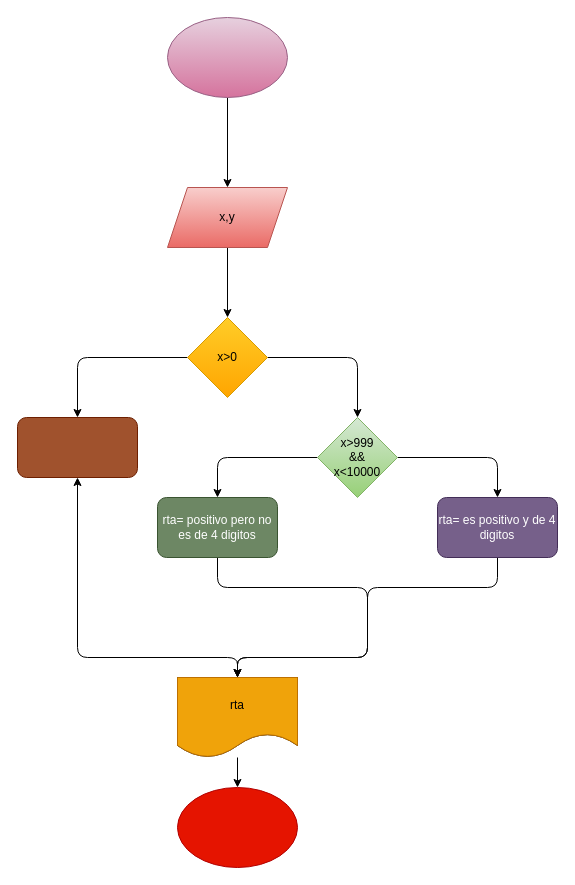
The diagram is 575 pixels wide and 885 high, and some of its shapes have lost their labels. The shapes that lost their labels are listed below. From the top down, each one's centre as x and y in pixels, then its label:
[227,57]: inicio
[77,447]: rta= "el numero no es positivo"
[237,827]: fin
